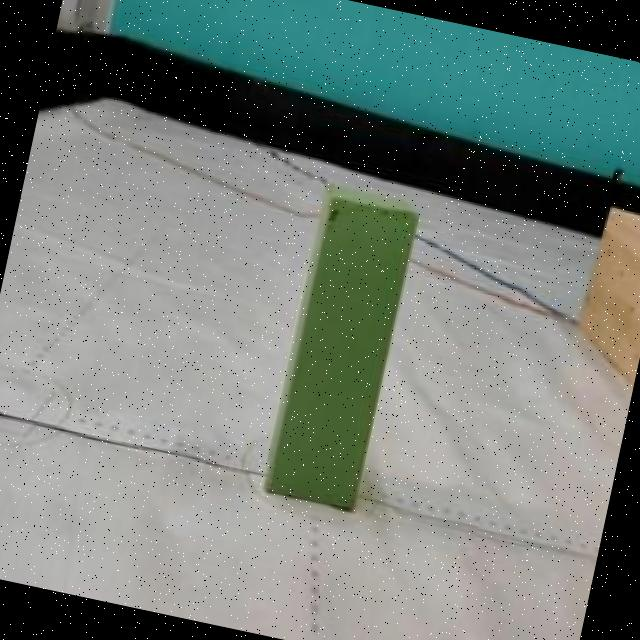greenbox: (260, 179, 427, 513)
